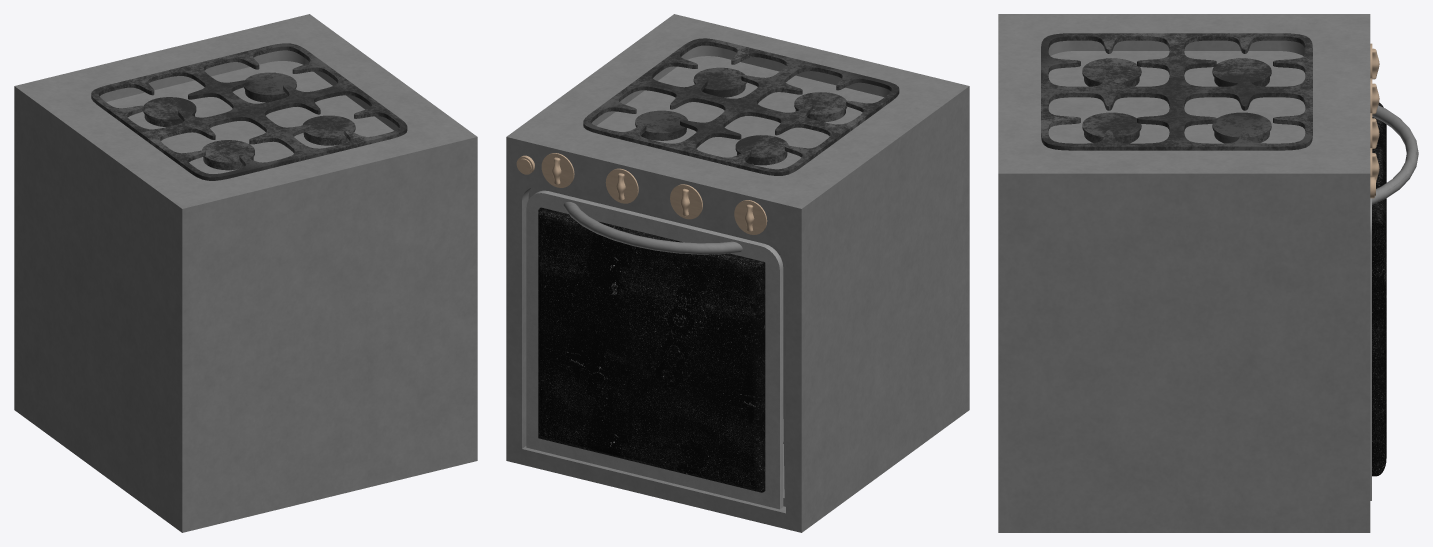
File: stove 1.fbx
3 renders of one model, left to right at view 1: azimuth 30°, elevation 25°; view 2: azimuth 150°, elevation 25°; view 3: azimuth 270°, elevation 25°, orthographic. The views are drawn at different scales.
Parts seen in each view (by area): view 1: Cube.002; view 2: Cube.002; view 3: Cube.002.
Part boxes in pixels (left/top/right/bottom): Cube.002: left=14, top=14, right=477, bottom=532; Cube.002: left=506, top=14, right=969, bottom=532; Cube.002: left=998, top=14, right=1418, bottom=532.
Bounding box in the file's own units: 365 × 345 × 383.
